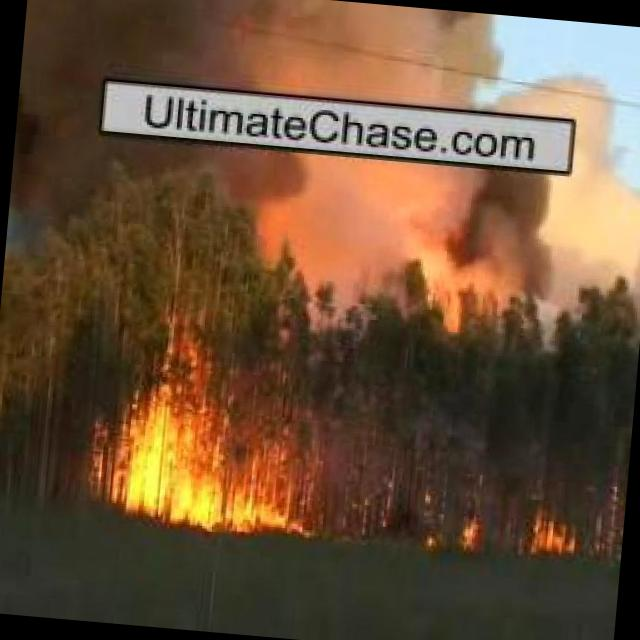Fire: (107, 396, 316, 540), (532, 510, 586, 560), (456, 507, 493, 551)
Smoke: (220, 146, 640, 347), (20, 0, 623, 128)
